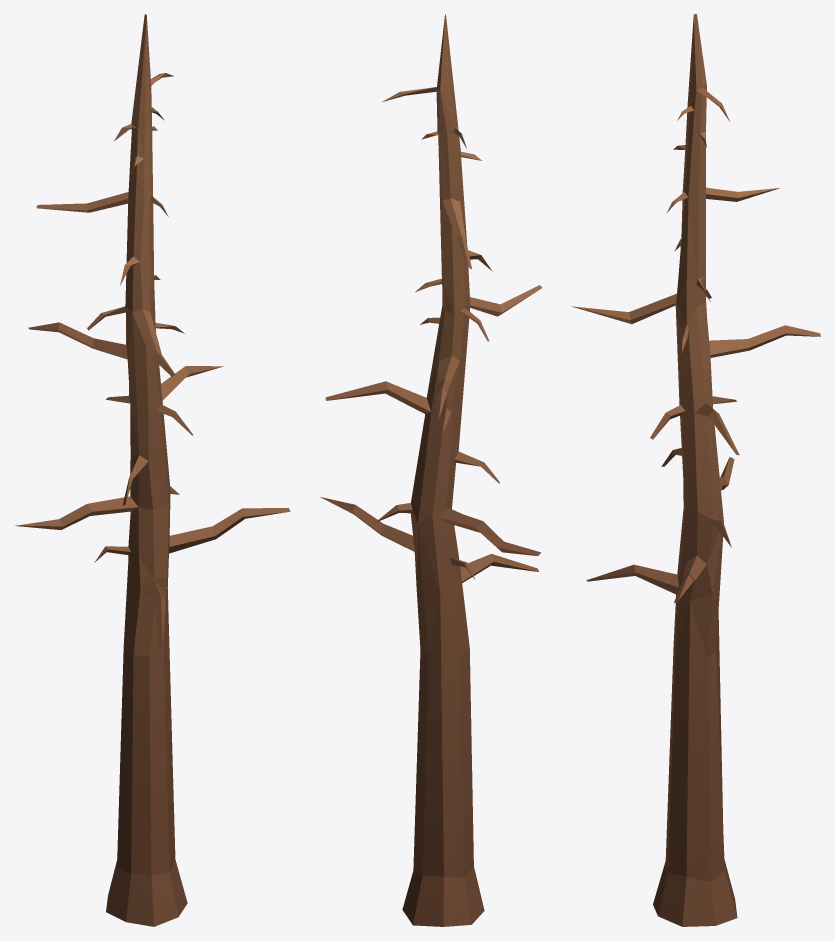
File: Tree_Pine_Dead_01.fbx
3 renders of one model, left to right at view 1: azimuth 30°, elevation 25°; view 2: azimuth 150°, elevation 25°; view 3: azimuth 270°, elevation 25°, orthographic.
Visible parts, largest first — view 1: Tree_Pine_Dead_01; view 2: Tree_Pine_Dead_01; view 3: Tree_Pine_Dead_01.
Boxes of the visible parts, x1,y1,x2,y2 form: Tree_Pine_Dead_01: (15,14,290,926); Tree_Pine_Dead_01: (320,14,542,926); Tree_Pine_Dead_01: (571,14,820,926).
Size of the model in its own units: 331 by 1146 by 289.
